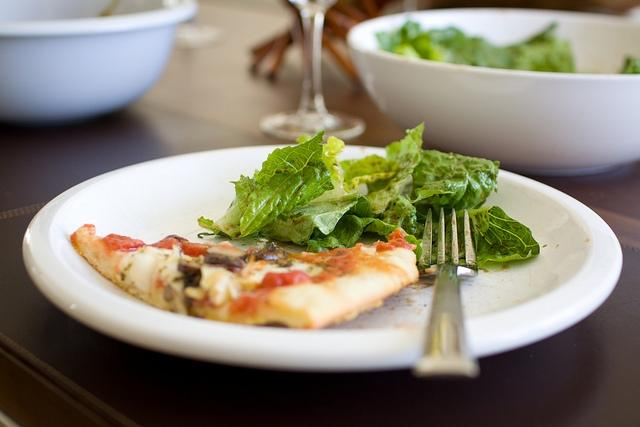lettuce: (198, 122, 541, 266), (418, 26, 516, 70), (510, 36, 576, 73), (414, 37, 474, 65), (401, 20, 422, 50), (392, 42, 423, 59), (618, 54, 640, 74)
